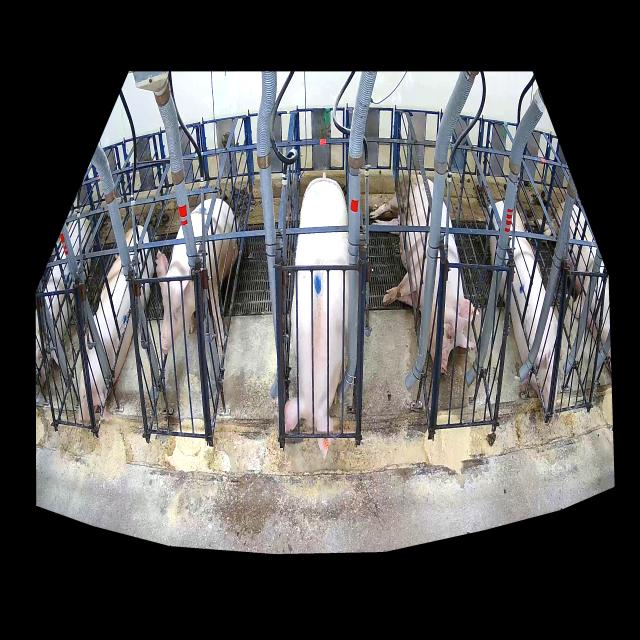pig: (370, 174, 475, 374), (285, 172, 348, 457), (486, 200, 558, 416), (79, 225, 154, 424), (156, 198, 238, 354)
